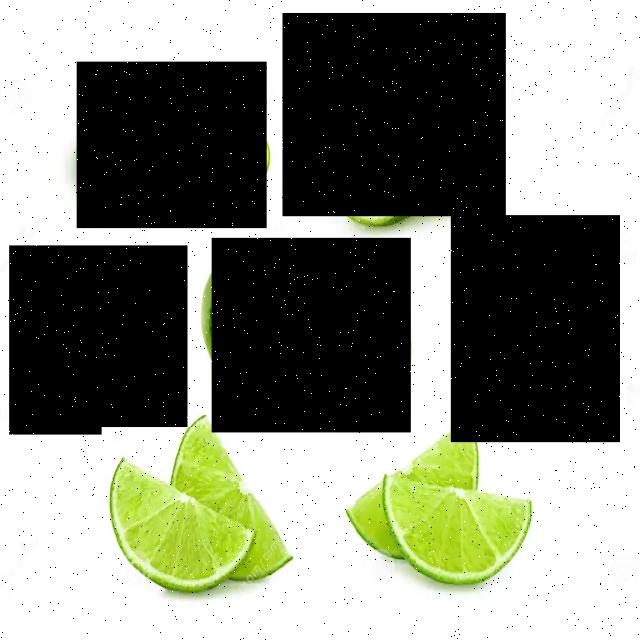Lime: (284, 14, 506, 217), (212, 238, 412, 433), (451, 215, 620, 442), (356, 419, 530, 627), (102, 427, 291, 608), (10, 246, 188, 436), (77, 63, 267, 229)
